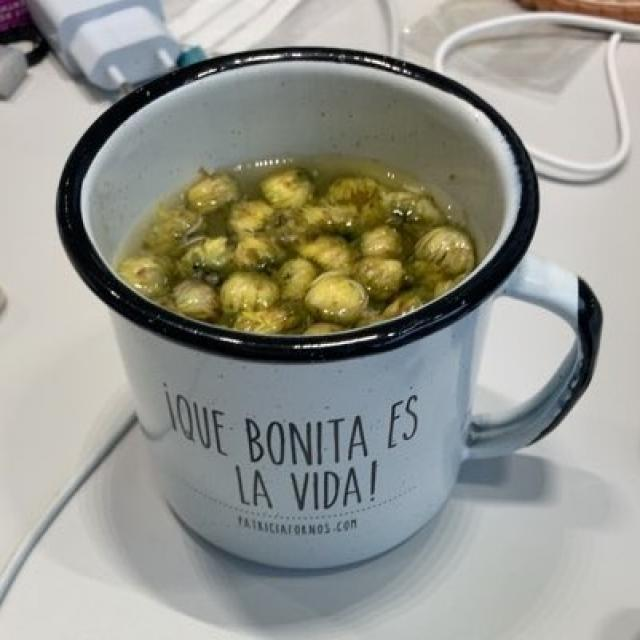tea: (125, 159, 475, 332)
